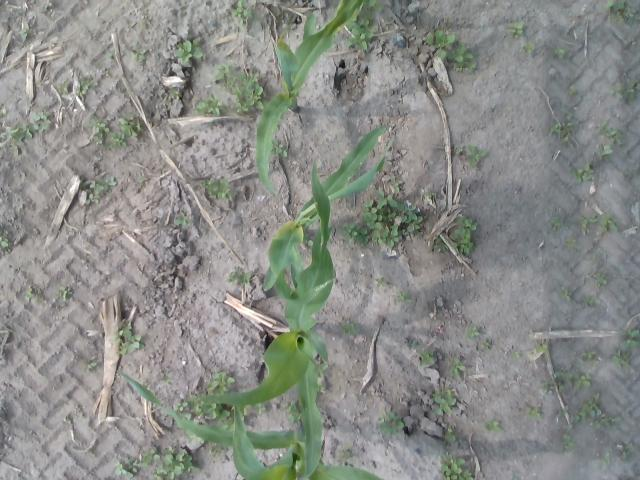Maize: (185, 158, 336, 480), (117, 370, 383, 480), (262, 124, 395, 292), (256, 1, 364, 195)
Weeds: (340, 191, 424, 253), (116, 443, 200, 480), (214, 59, 266, 112), (0, 110, 55, 153), (426, 29, 476, 72), (575, 392, 623, 430), (90, 116, 142, 148), (540, 368, 592, 393), (108, 318, 142, 356), (610, 329, 640, 372), (449, 215, 479, 256), (174, 400, 223, 423), (439, 451, 474, 480), (85, 174, 118, 204), (192, 92, 228, 118), (548, 110, 575, 144), (348, 18, 376, 50), (173, 36, 204, 64), (607, 79, 640, 105), (200, 176, 233, 202), (56, 76, 98, 96), (204, 370, 237, 394), (604, 0, 635, 24), (378, 409, 404, 437), (596, 120, 626, 144), (432, 389, 456, 416), (569, 161, 596, 185), (332, 440, 358, 464), (231, 0, 251, 29), (226, 266, 250, 290), (466, 144, 488, 169), (449, 356, 470, 382), (586, 269, 611, 290), (598, 212, 618, 238), (578, 210, 598, 234), (282, 401, 301, 426), (416, 346, 438, 366), (130, 42, 148, 66), (562, 425, 576, 455), (574, 349, 602, 364), (389, 177, 411, 196), (80, 354, 98, 374), (56, 284, 76, 302), (338, 320, 358, 338), (163, 89, 182, 106), (272, 140, 288, 159), (174, 212, 194, 227), (508, 21, 524, 39), (19, 21, 32, 43), (208, 444, 225, 460), (394, 290, 411, 306), (532, 341, 550, 356), (432, 234, 446, 253), (594, 146, 612, 160), (0, 236, 13, 255), (620, 442, 634, 459), (557, 404, 571, 421), (586, 252, 603, 266), (600, 452, 611, 473), (24, 284, 36, 303), (444, 428, 458, 444), (526, 406, 542, 420), (484, 420, 502, 432), (466, 324, 478, 342), (364, 0, 382, 12), (481, 337, 493, 353), (560, 286, 572, 302), (554, 44, 566, 60), (162, 372, 175, 386), (581, 295, 596, 307), (563, 236, 578, 248), (552, 216, 564, 231), (626, 164, 638, 178), (376, 276, 390, 287), (423, 189, 440, 198), (454, 145, 466, 157), (106, 48, 116, 62), (522, 44, 536, 54), (140, 19, 152, 30), (64, 415, 76, 426), (254, 404, 267, 414), (139, 177, 150, 188), (568, 85, 578, 95), (0, 107, 8, 119), (139, 0, 149, 9), (46, 0, 54, 10), (512, 351, 522, 359), (406, 340, 413, 348), (630, 38, 636, 47), (160, 164, 168, 170)
